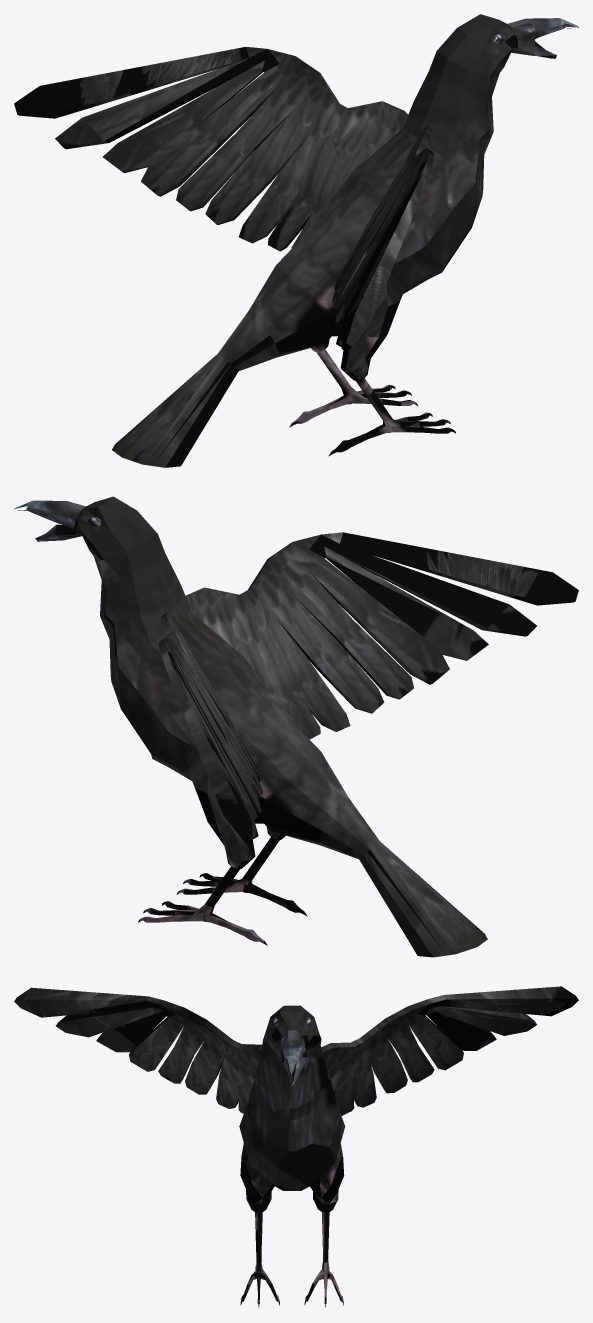
File: crowTextureAnim_000008.obj
The picture shows the model from 3 angles, top to bottom: view 1: azimuth 30°, elevation 25°; view 2: azimuth 150°, elevation 25°; view 3: azimuth 270°, elevation 25°; orthographic projection. The views are drawn at different scales.
Visible parts, largest first — view 1: Cylinder.001, Cylinder.002, Cylinder.003; view 2: Cylinder.001, Cylinder.003, Cylinder.002; view 3: Cylinder.001, Cylinder.002, Cylinder.003.
Boxes of the visible parts, x1,y1,x2,y2 form: Cylinder.001: [112, 14, 578, 467]; Cylinder.002: [14, 46, 407, 251]; Cylinder.003: [332, 124, 434, 352]; Cylinder.001: [14, 496, 487, 957]; Cylinder.003: [185, 532, 578, 739]; Cylinder.002: [158, 612, 262, 844]; Cylinder.001: [239, 1005, 345, 1307]; Cylinder.002: [308, 986, 578, 1115]; Cylinder.003: [14, 987, 262, 1113].
Size of the model in its own units: 5.22 by 4.1 by 6.52.
